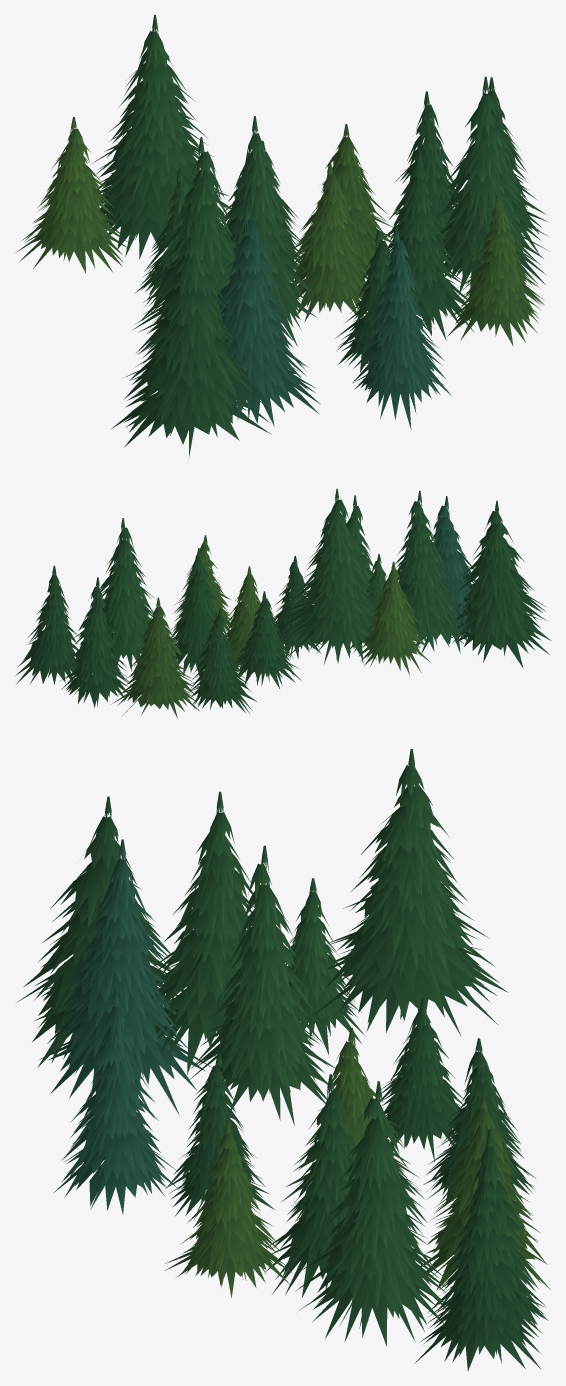
File: pine_1.glb
3 views of the same model, one above another, from view 1: azimuth 30°, elevation 25°; view 2: azimuth 150°, elevation 25°; view 3: azimuth 270°, elevation 25° (orthographic). The views are drawn at different scales.
Parts seen in each view (by area): view 1: pine_1; view 2: pine_1; view 3: pine_1.
Boxes of the visible parts, box(x1,y1,x2,y2) form: pine_1: box(16, 15, 549, 459); pine_1: box(14, 489, 550, 718); pine_1: box(16, 749, 550, 1370).
Size of the model in its own units: 35.17 by 19.87 by 23.88.
1 material, 1 textured.
